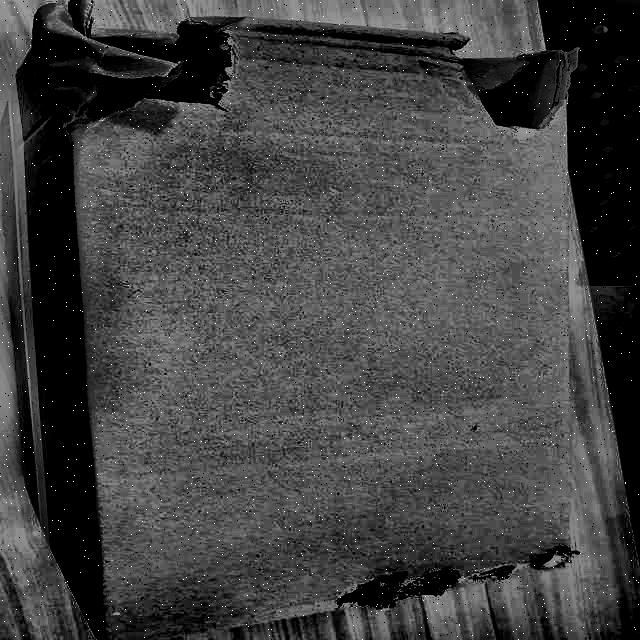box: (0, 10, 595, 639)
hole: (61, 15, 238, 124), (441, 40, 577, 131), (334, 573, 408, 607)
